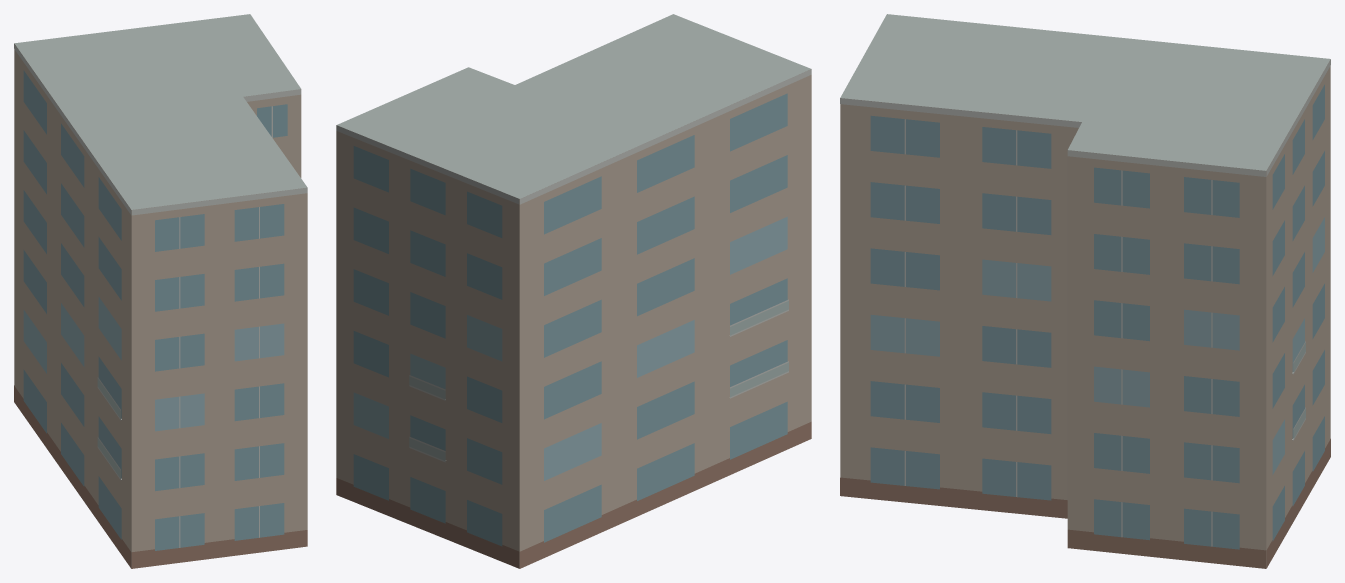
The model's file is survey-upis-32989462.glb.
3 renders of one model, left to right at view 1: azimuth 30°, elevation 25°; view 2: azimuth 150°, elevation 25°; view 3: azimuth 270°, elevation 25°, orthographic. The views are drawn at different scales.
Visible parts, largest first — view 1: survey-upis-32989462.tmp; view 2: survey-upis-32989462.tmp; view 3: survey-upis-32989462.tmp.
Part boxes in pixels (box(x1,y1,x2,y2)): survey-upis-32989462.tmp: box(14, 14, 307, 568); survey-upis-32989462.tmp: box(336, 14, 811, 568); survey-upis-32989462.tmp: box(840, 14, 1330, 568).
Bounding box in the file's own units: 13.28 × 15.7 × 17.55.
